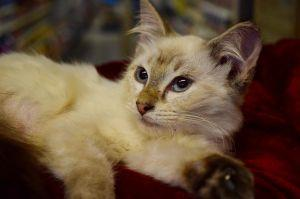siamese: (117, 1, 266, 146)
